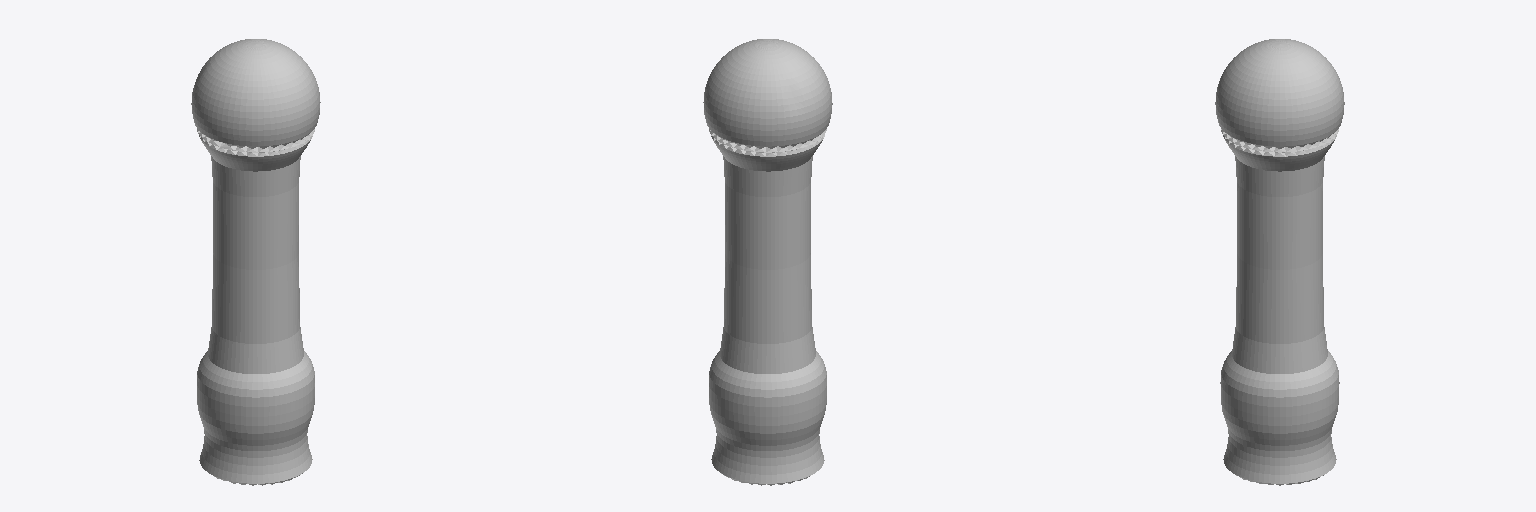
The model's file is kolumna.obj.
3 renders of one model, left to right at view 1: azimuth 30°, elevation 25°; view 2: azimuth 150°, elevation 25°; view 3: azimuth 270°, elevation 25°, orthographic.
Visible parts, largest first — view 1: Sphere_Sphere.001; view 2: Sphere_Sphere.001; view 3: Sphere_Sphere.001.
Boxes of the visible parts, <box> form: Sphere_Sphere.001: <box>191,39,320,485</box>; Sphere_Sphere.001: <box>703,39,832,485</box>; Sphere_Sphere.001: <box>1215,39,1344,485</box>.
Size of the model in its own units: 2.16 by 7.81 by 2.16.